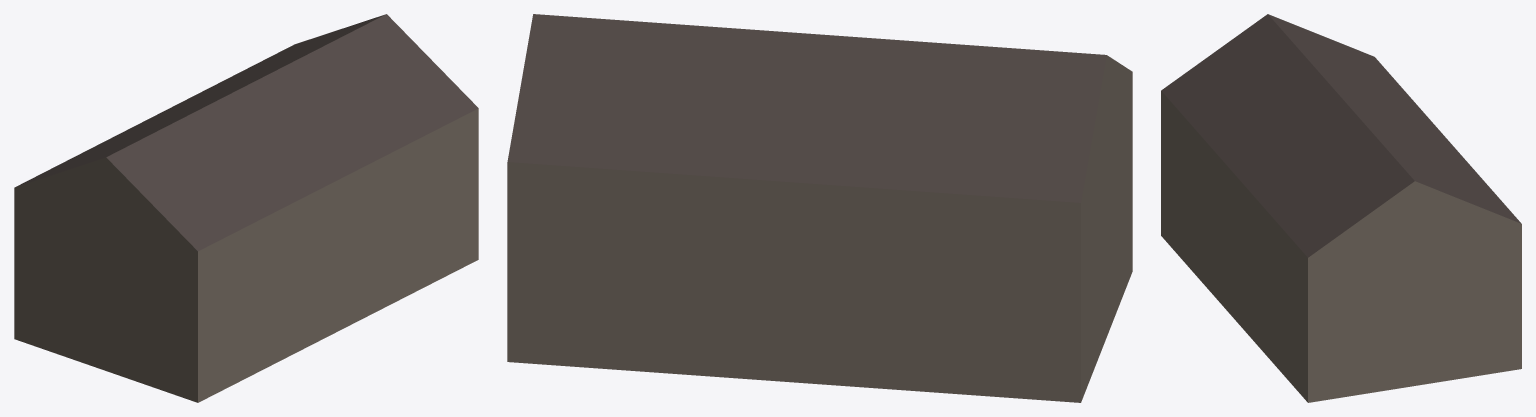
3 views of the same model, side by side, from view 1: azimuth 30°, elevation 25°; view 2: azimuth 150°, elevation 25°; view 3: azimuth 270°, elevation 25° (orthographic). The views are drawn at different scales.
Parts seen in each view (by area): view 1: HP-w859078890; view 2: HP-w859078890; view 3: HP-w859078890.
Boxes of the visible parts, x1,y1,x2,y2 form: HP-w859078890: (14,14,478,402); HP-w859078890: (507,14,1132,402); HP-w859078890: (1161,14,1521,402).
Bounding box in the file's own units: 26.75 × 12.71 × 20.28.
